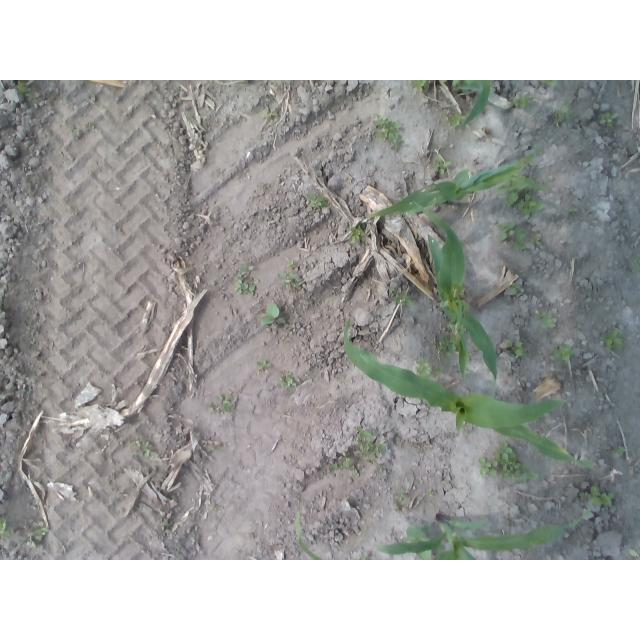Maize: (344, 316, 597, 468), (293, 504, 595, 561), (411, 198, 499, 382), (369, 148, 548, 216), (436, 80, 492, 130)
Weeds: (493, 440, 539, 484), (352, 423, 386, 465), (372, 114, 404, 151), (403, 522, 433, 560), (497, 221, 527, 251), (497, 178, 527, 207), (233, 265, 260, 297), (327, 451, 358, 478), (581, 485, 616, 508), (23, 521, 50, 548), (261, 300, 288, 326), (516, 193, 545, 216), (553, 98, 575, 126), (601, 327, 624, 350), (503, 338, 527, 359), (438, 334, 458, 359), (208, 395, 234, 414), (131, 439, 157, 458), (389, 287, 414, 306), (278, 272, 305, 289), (535, 308, 557, 328), (15, 81, 37, 100), (553, 343, 576, 361), (444, 112, 466, 129), (478, 457, 497, 476), (416, 357, 433, 378), (276, 372, 296, 389), (598, 111, 619, 127), (350, 224, 367, 243), (307, 193, 330, 207), (406, 80, 430, 93), (434, 155, 450, 174), (1, 513, 12, 540), (512, 94, 531, 108), (433, 542, 447, 555), (257, 358, 272, 370), (262, 107, 278, 117), (539, 81, 561, 88), (348, 553, 370, 560), (507, 281, 522, 291), (434, 365, 447, 376), (447, 319, 457, 333), (530, 235, 543, 245), (614, 445, 626, 455), (397, 489, 406, 502), (633, 254, 640, 270), (566, 207, 579, 215), (629, 547, 639, 557), (160, 520, 172, 528), (287, 260, 297, 268), (208, 445, 216, 451), (427, 491, 433, 497), (463, 430, 469, 435)
